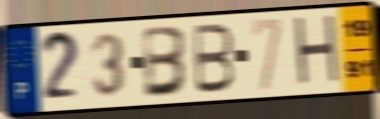2: (37, 28, 86, 108)
3: (88, 30, 127, 100)
7: (250, 17, 287, 93)
B: (142, 24, 191, 101), (192, 22, 237, 96)
H: (291, 12, 343, 91)
